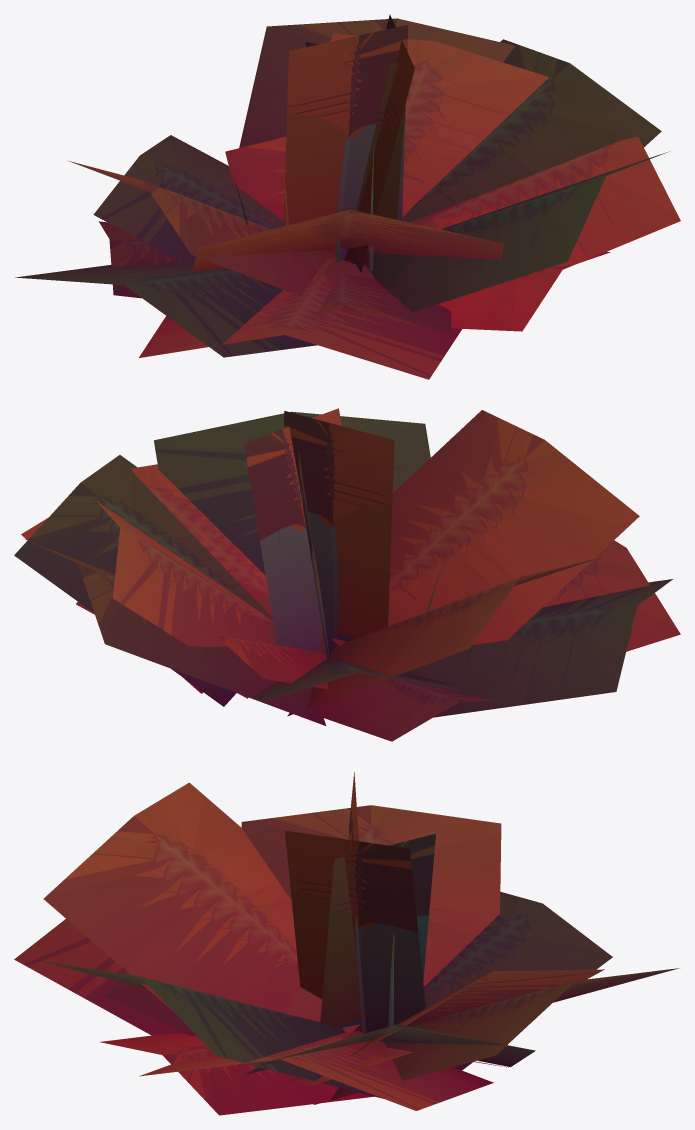
File: asset.glb
The picture shows the model from 3 angles, top to bottom: view 1: azimuth 30°, elevation 25°; view 2: azimuth 150°, elevation 25°; view 3: azimuth 270°, elevation 25°; orthographic projection. The views are drawn at different scales.
Visible parts, largest first — view 1: alpine_avens_LOD0; view 2: alpine_avens_LOD0; view 3: alpine_avens_LOD0.
Boxes of the visible parts, x1,y1,x2,y2 form: alpine_avens_LOD0: (15, 14, 680, 379); alpine_avens_LOD0: (14, 408, 680, 741); alpine_avens_LOD0: (14, 772, 679, 1115).
Bounding box in the file's own units: 0.2202 × 0.0844 × 0.206.
1 material, 1 textured.
